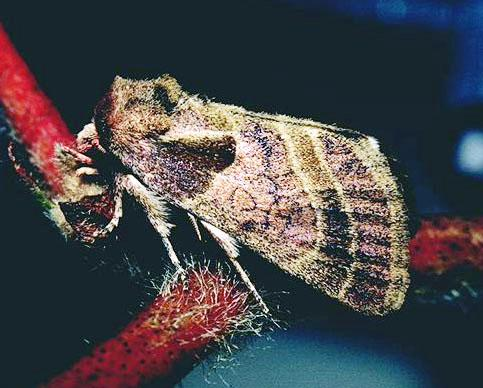insect: (72, 68, 418, 338)
